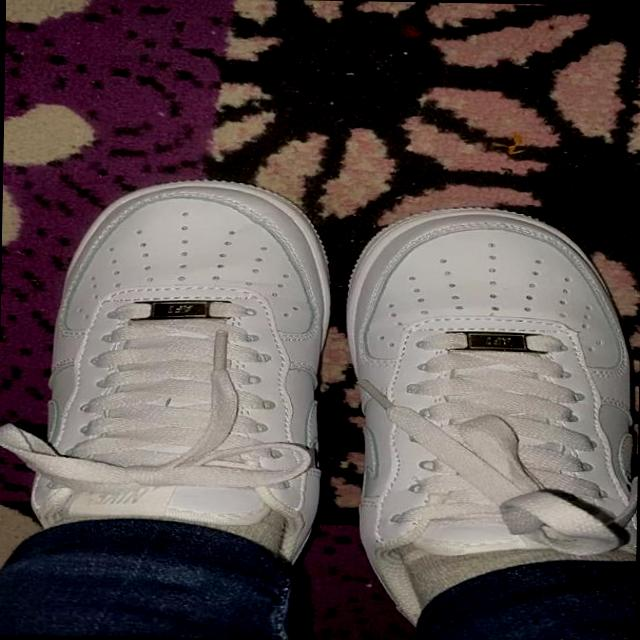nike_fake_airforce: (335, 203, 640, 630), (22, 175, 350, 571)
